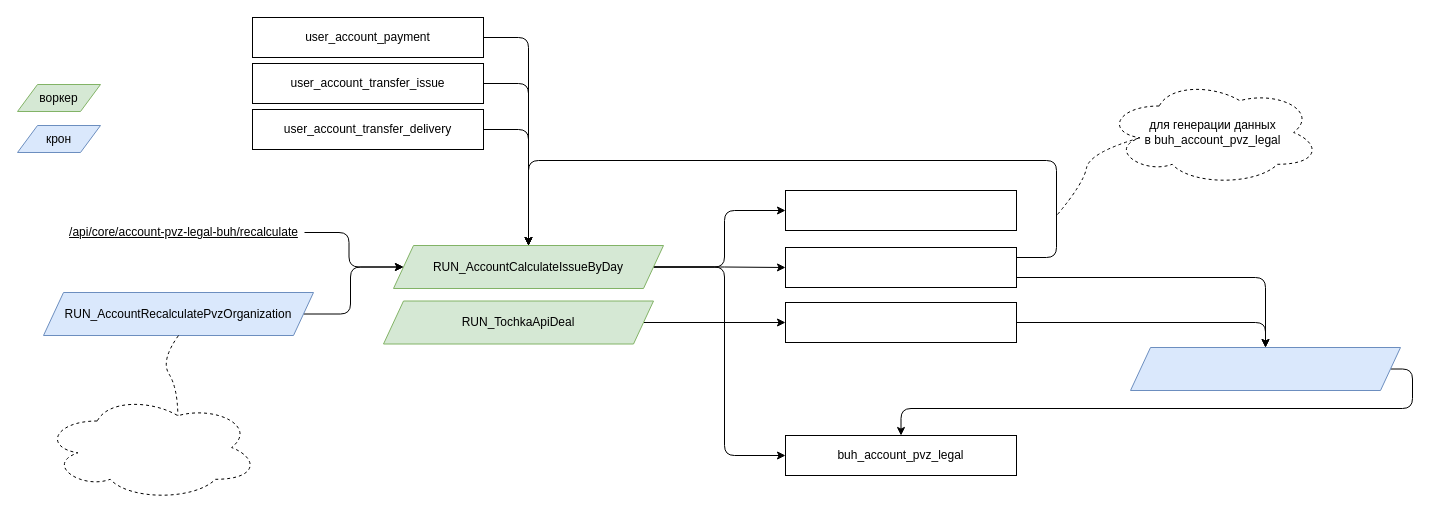
The diagram is 1438 pixels wide and 518 high, and some of its shapes have lost their labels. Here are the shapes that lost their labels. From the top down, the centre of each, then its label:
At [900,210]: "buh_account_pvz".
At [900,267]: "buh_account_pvz_legal_day".
At [900,322]: "tb_deal_pvz".
At [1265,368]: "RUN_AccountCalculatePvzLegal".
At [150,447]: "за вчера по всем орзанизациям issue/delivery".
